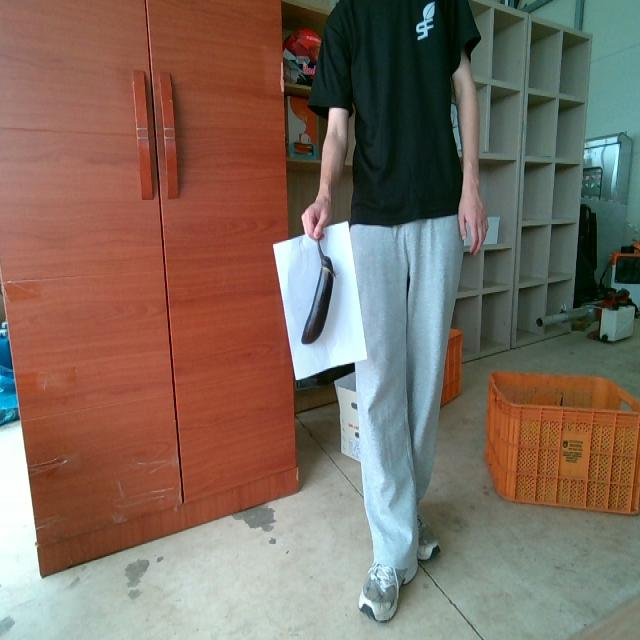Egg plant: (301, 240, 334, 343)
